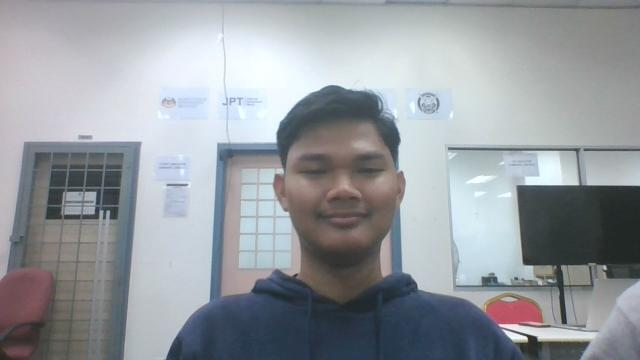senang: (260, 79, 420, 277)
